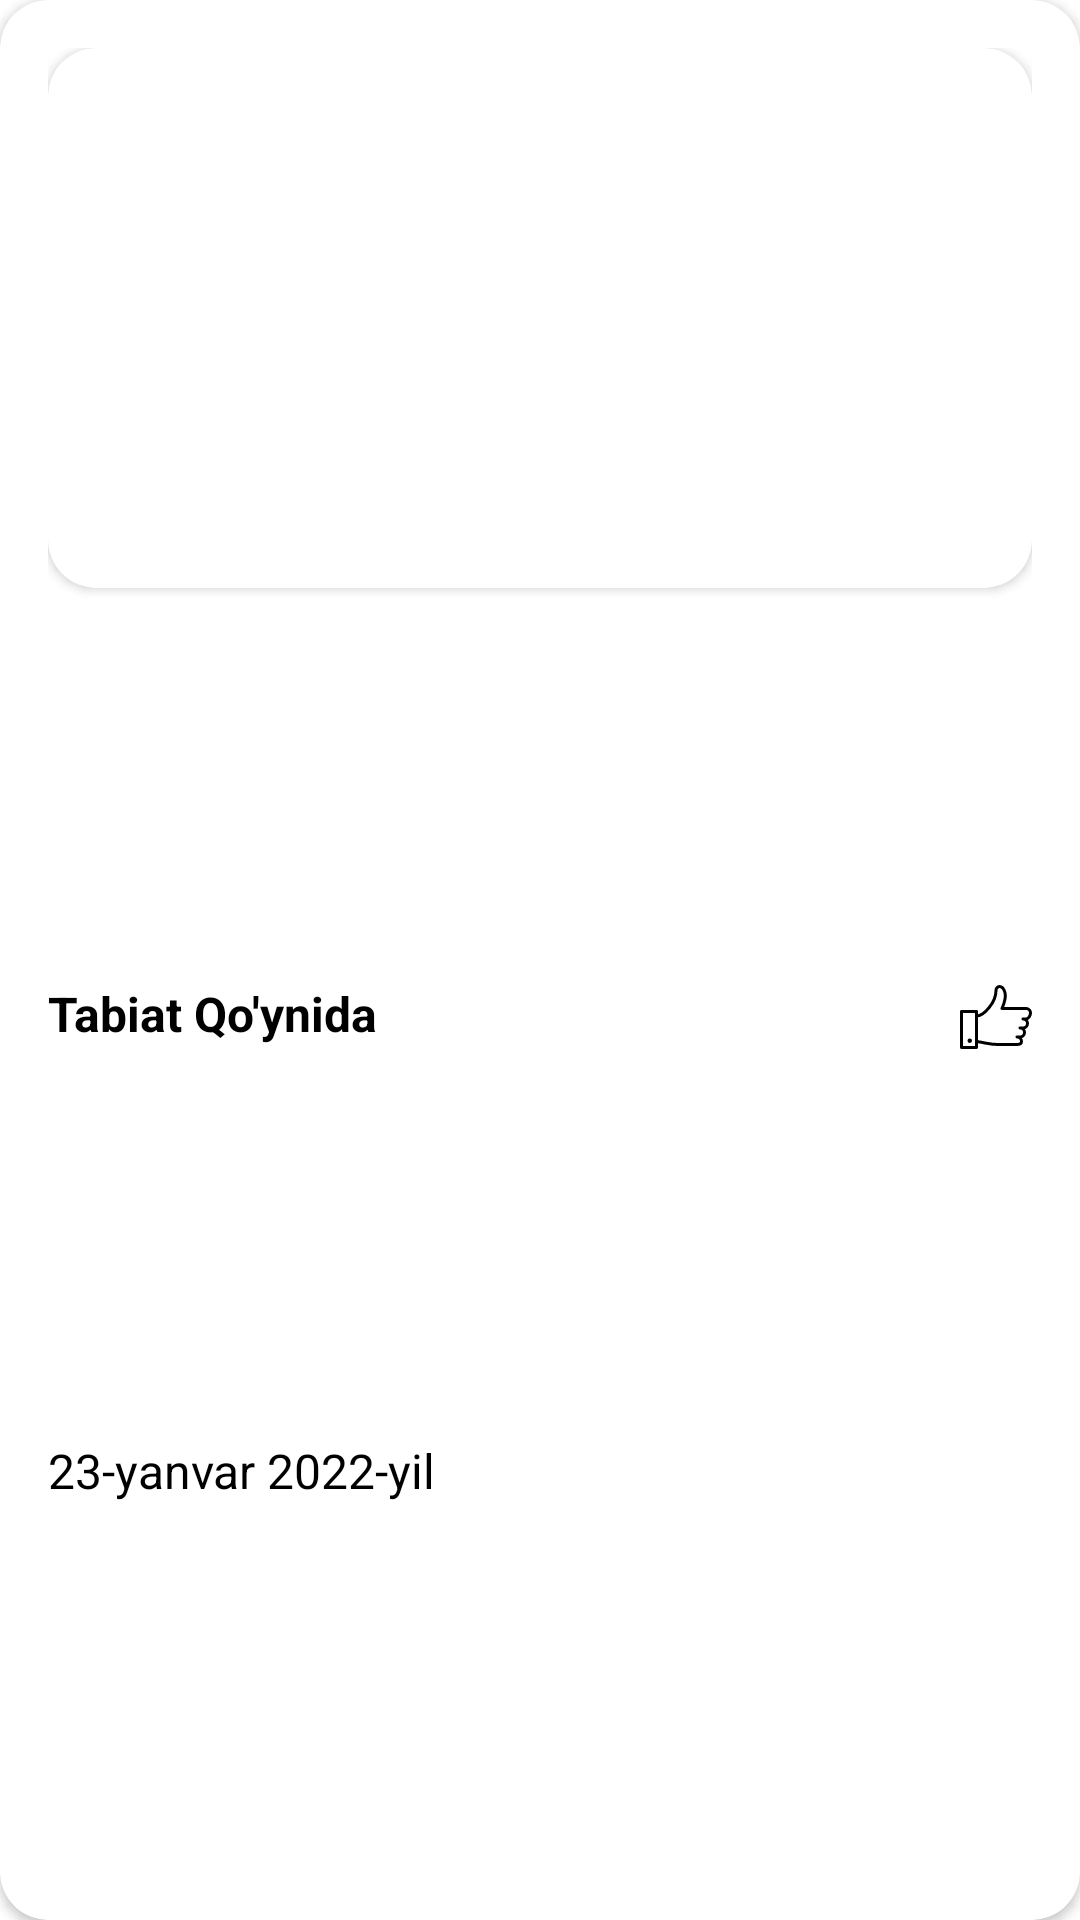

Icon bounding boxes for this 1080px x 1920px phone screenshot, format (x1=x1, y1=y1, x2=x2, y2=y2):
like: (x1=960, y1=985, x2=1032, y2=1049)
